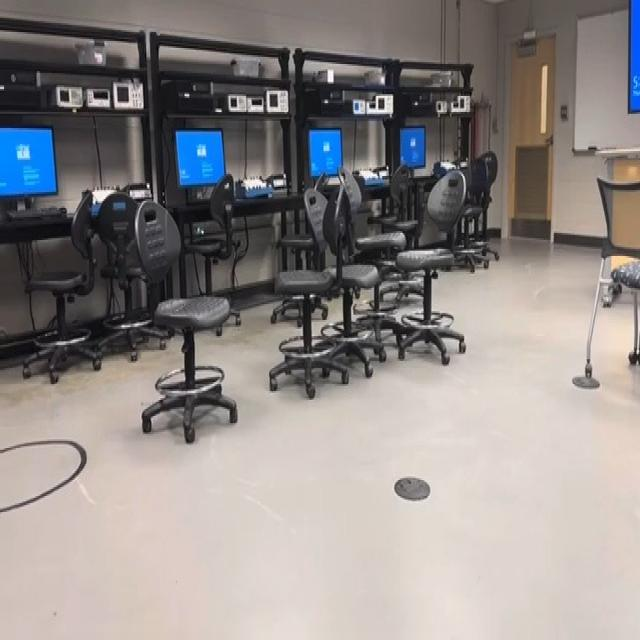drone: (182, 212, 220, 254)
